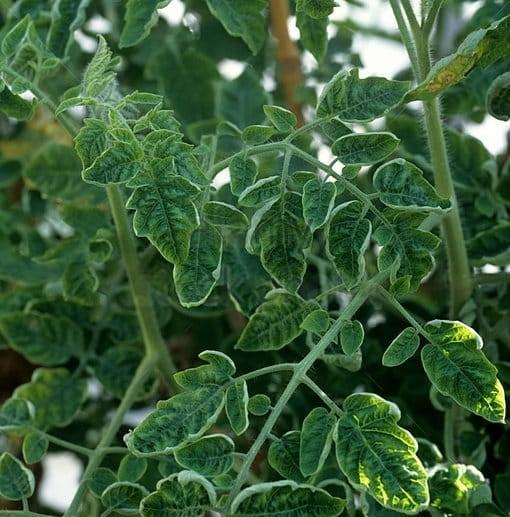Yellow Leaf Curl Virus: (122, 345, 250, 457), (335, 394, 433, 517), (169, 196, 254, 316), (419, 314, 510, 425), (126, 152, 204, 270), (242, 189, 318, 294), (313, 64, 418, 127), (372, 206, 444, 289), (235, 284, 315, 354), (323, 199, 377, 294), (0, 307, 83, 367), (372, 157, 456, 215), (224, 482, 351, 517), (133, 468, 217, 517), (173, 431, 238, 480), (295, 405, 335, 481), (327, 130, 402, 169), (82, 139, 141, 187), (301, 176, 338, 235), (73, 114, 111, 169), (378, 321, 421, 368)
